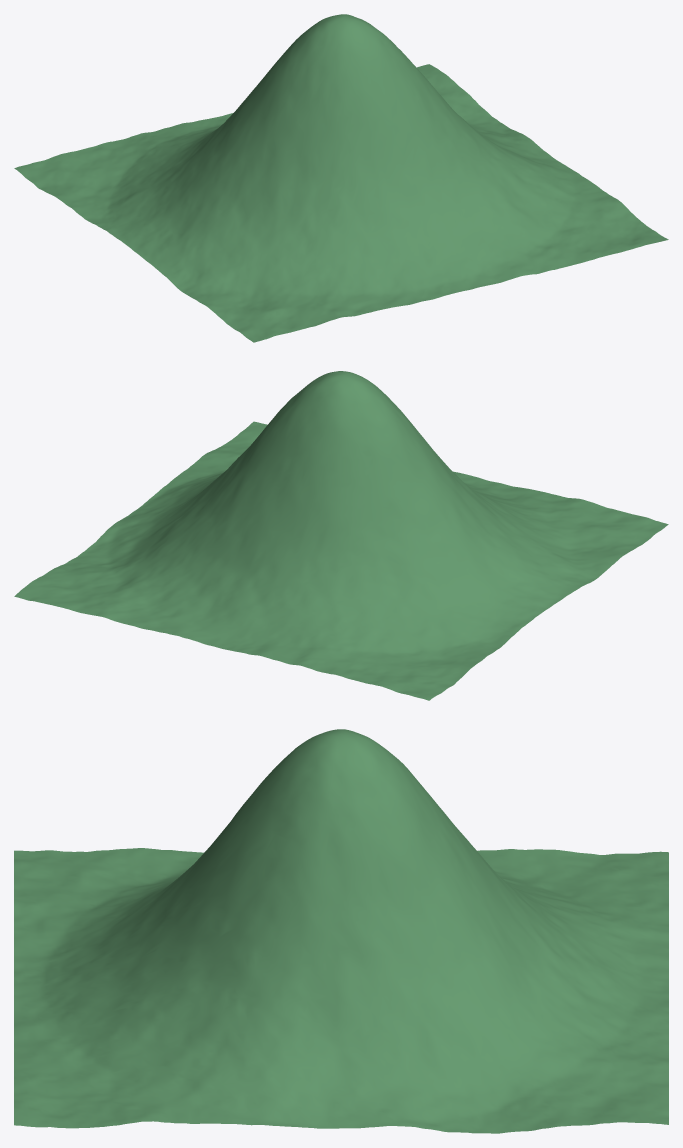
The model's file is island.glb.
3 renders of one model, top to bottom at view 1: azimuth 30°, elevation 25°; view 2: azimuth 150°, elevation 25°; view 3: azimuth 270°, elevation 25°, orthographic. The views are drawn at different scales.
Visible parts, largest first — view 1: Terrain_Surface; view 2: Terrain_Surface; view 3: Terrain_Surface.
Part boxes in pixels (x1,y1,x2,y2): Terrain_Surface: (14, 14, 668, 342); Terrain_Surface: (14, 371, 668, 700); Terrain_Surface: (14, 729, 668, 1133).
Bounding box in the file's own units: 480 × 211 × 480.
